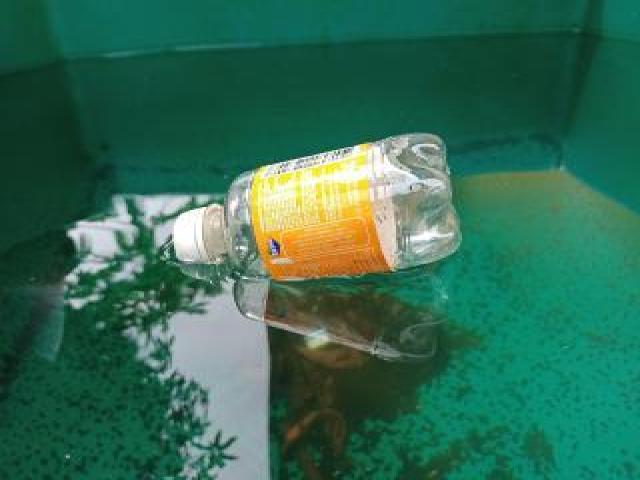Bottle: (168, 129, 468, 279)
